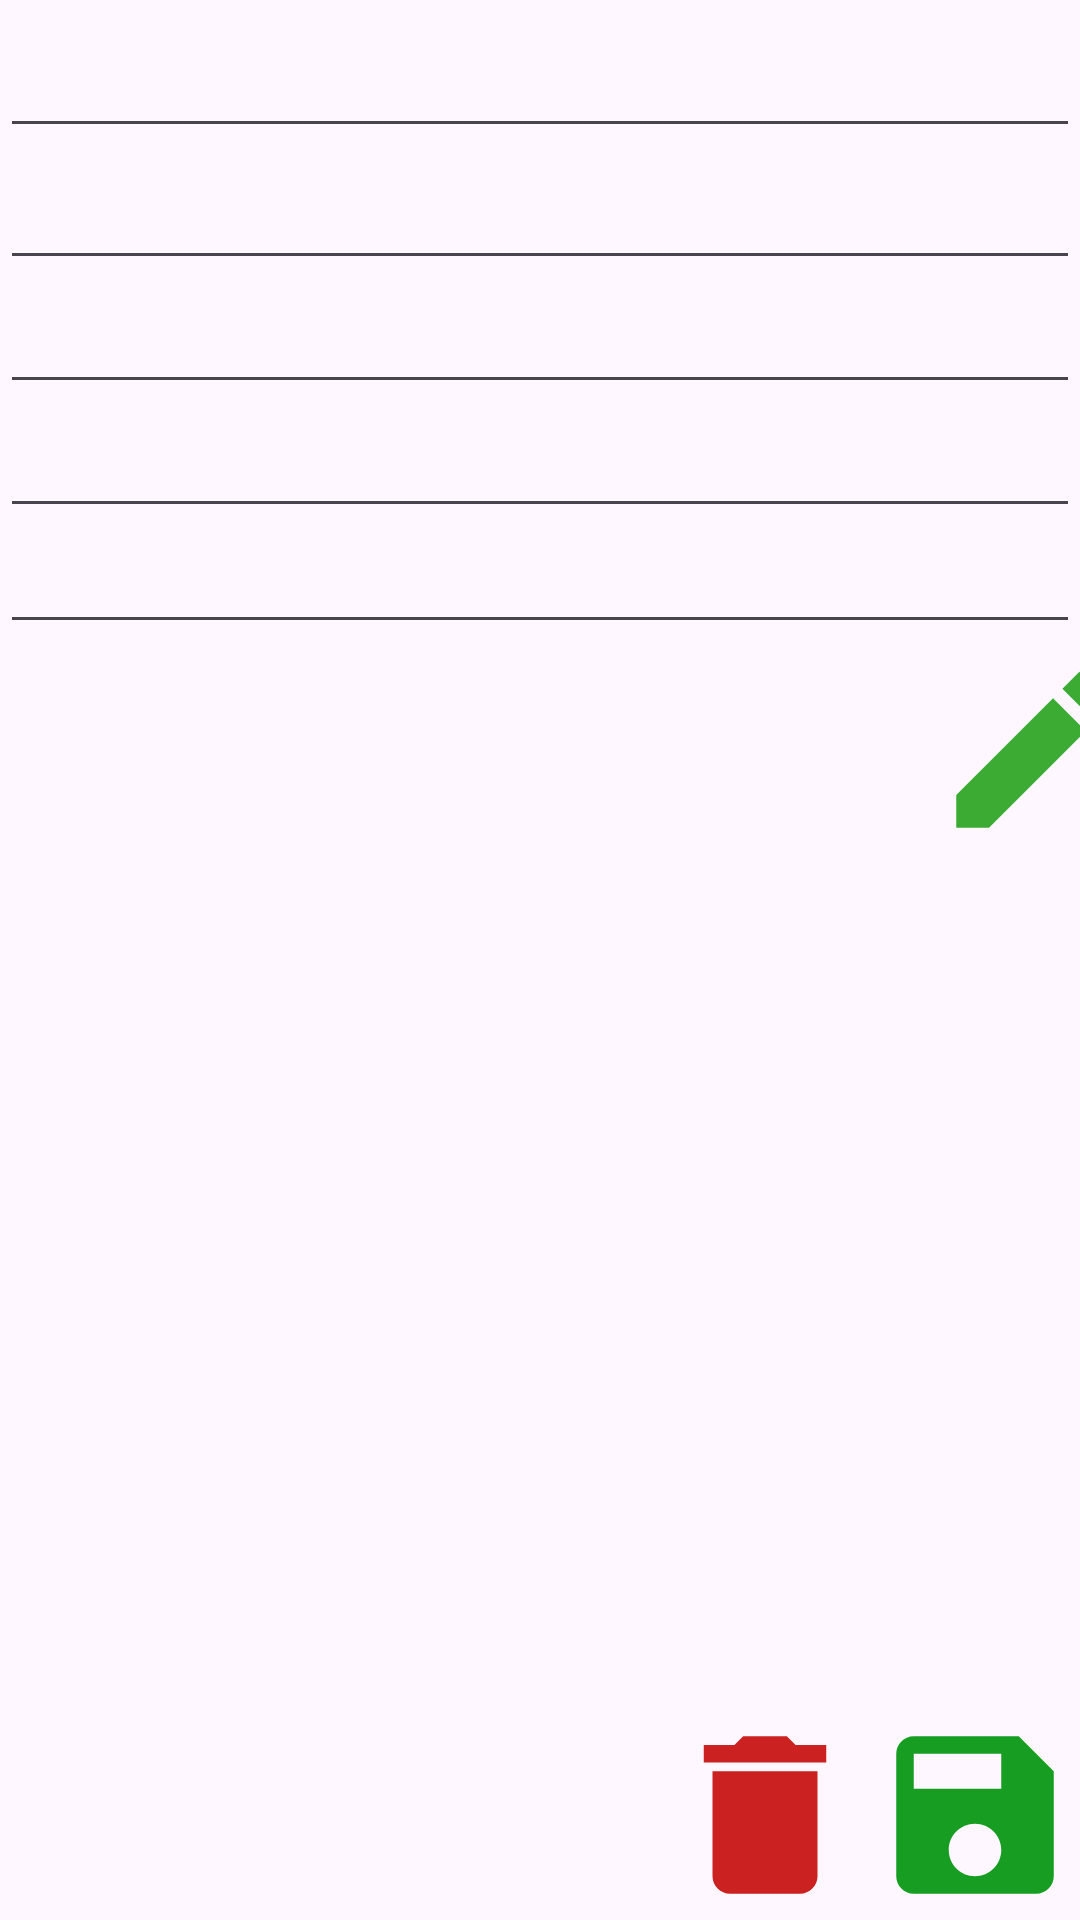

Locate icon controls on the screen. Image size 1080*1920, boxes as bbox(x1, y1, x2, y2).
delete: bbox(703, 1736, 827, 1894)
save: bbox(896, 1736, 1054, 1894)
